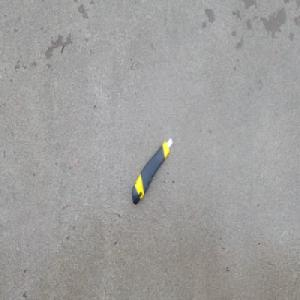Cutter: (131, 135, 174, 205)
